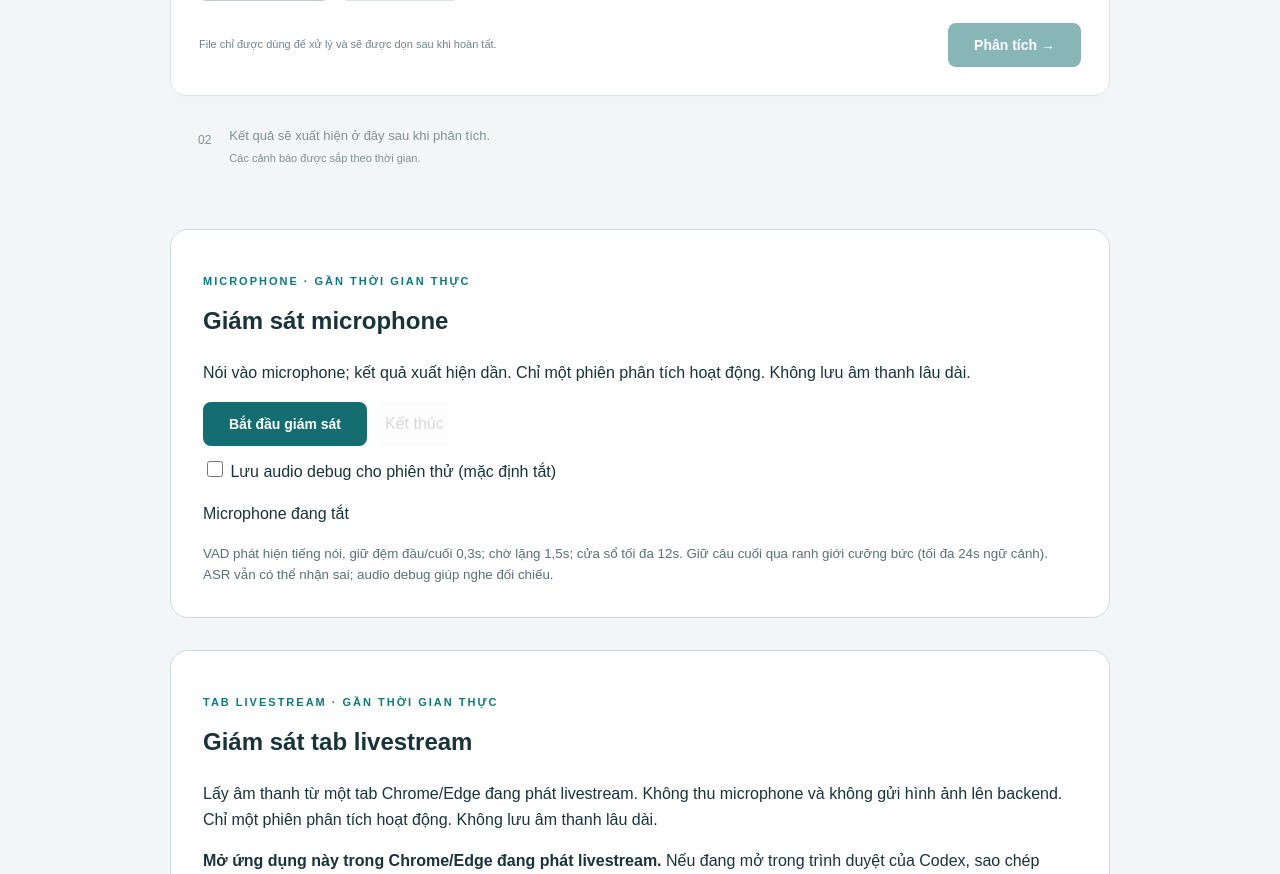
Scenario: bounds client queue, does not silently continue sending
This screenshot has width=1280, height=874.
(page scrolled)
Click the button "Bắt đầu giám sát".
click(285, 424)  # box 203,402 -> 367,446
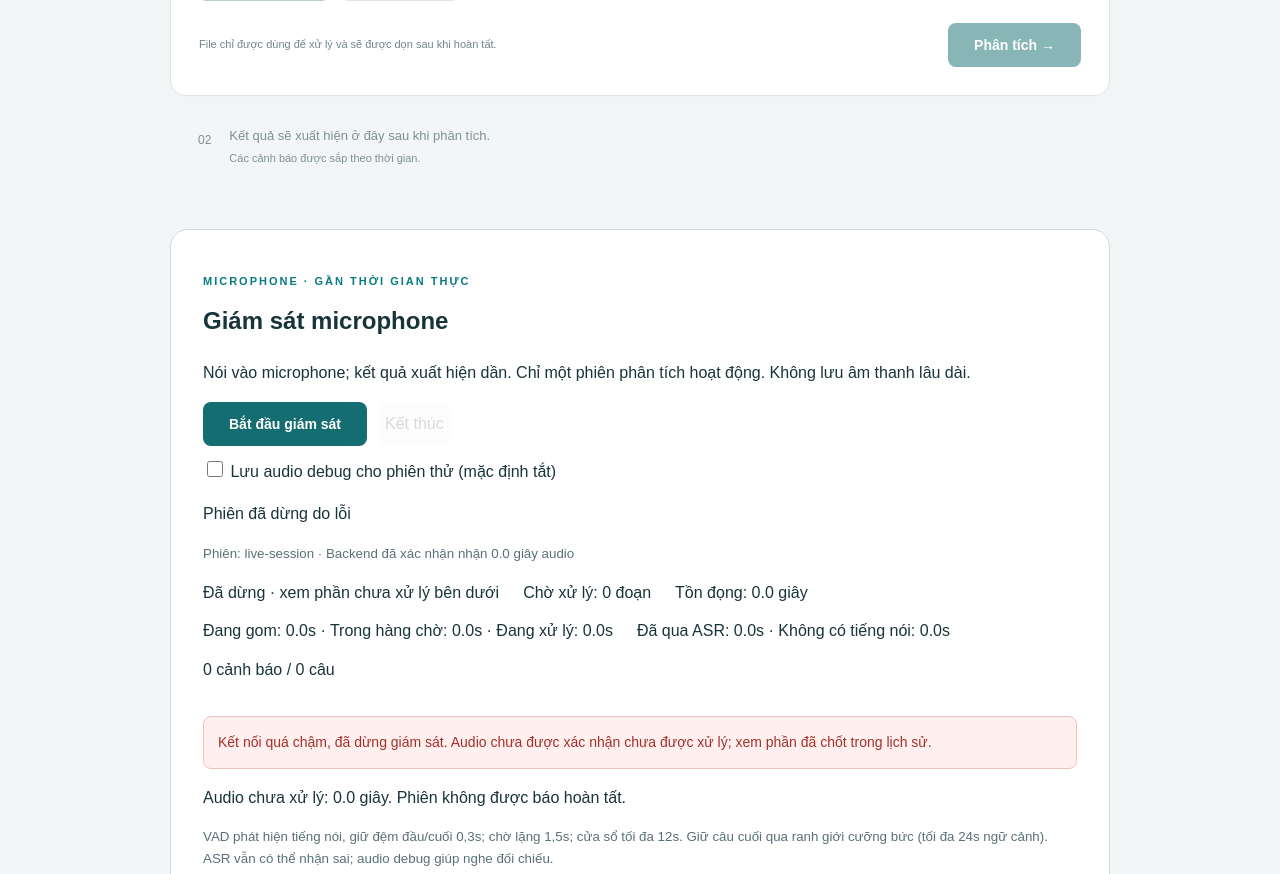
Expected: the text "Kết nối quá chậm" is shown, 218,734 -> 932,750
